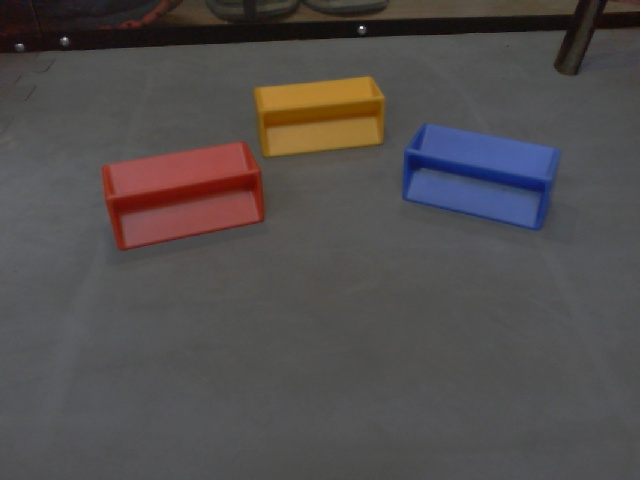BlueSample: (398, 122, 560, 236)
RedSample: (100, 140, 267, 251)
YellowSample: (250, 74, 387, 159)
